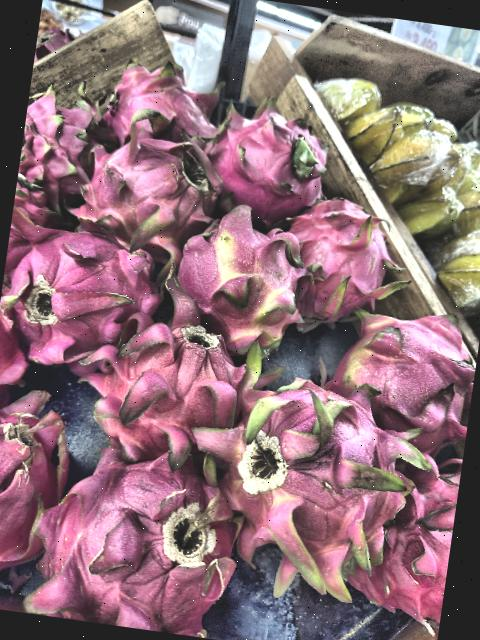buah-naga-belum-matang: (198, 344, 422, 590), (331, 290, 480, 453), (166, 200, 313, 354)
buah-naga-matang: (21, 424, 246, 640), (72, 307, 246, 472), (0, 206, 160, 363), (78, 112, 222, 254), (360, 452, 462, 630), (280, 188, 404, 333), (0, 379, 68, 600), (208, 106, 330, 222), (16, 82, 102, 200), (101, 58, 210, 146)
